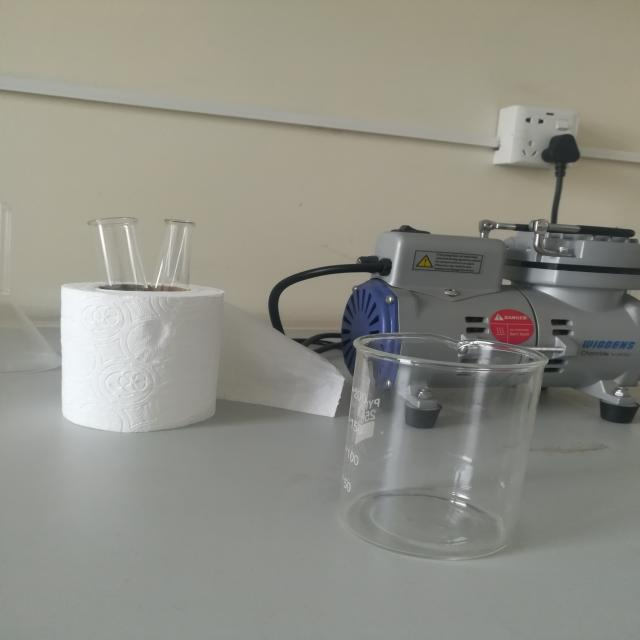Beaker: (330, 276, 580, 578)
